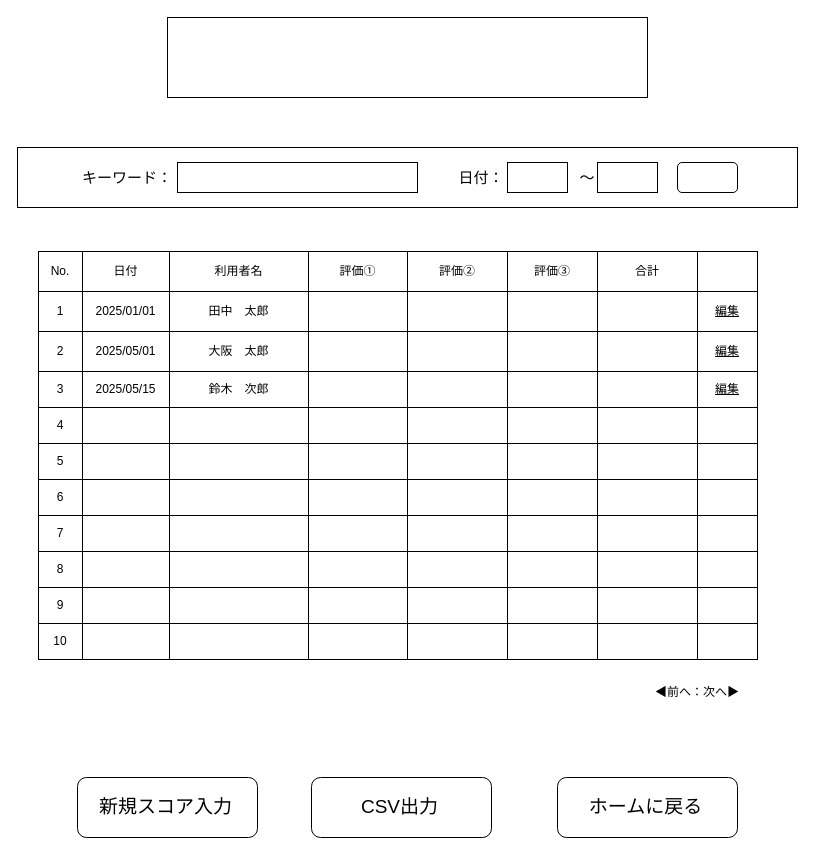
Image size: 815x855. Some labels were removed from this diagram. Here are the shapes that lost their labels. From the top down, the centre of each, then its label:
At pixel 407 57: "スコア一覧画面".
At pixel 707 177: "検索".
